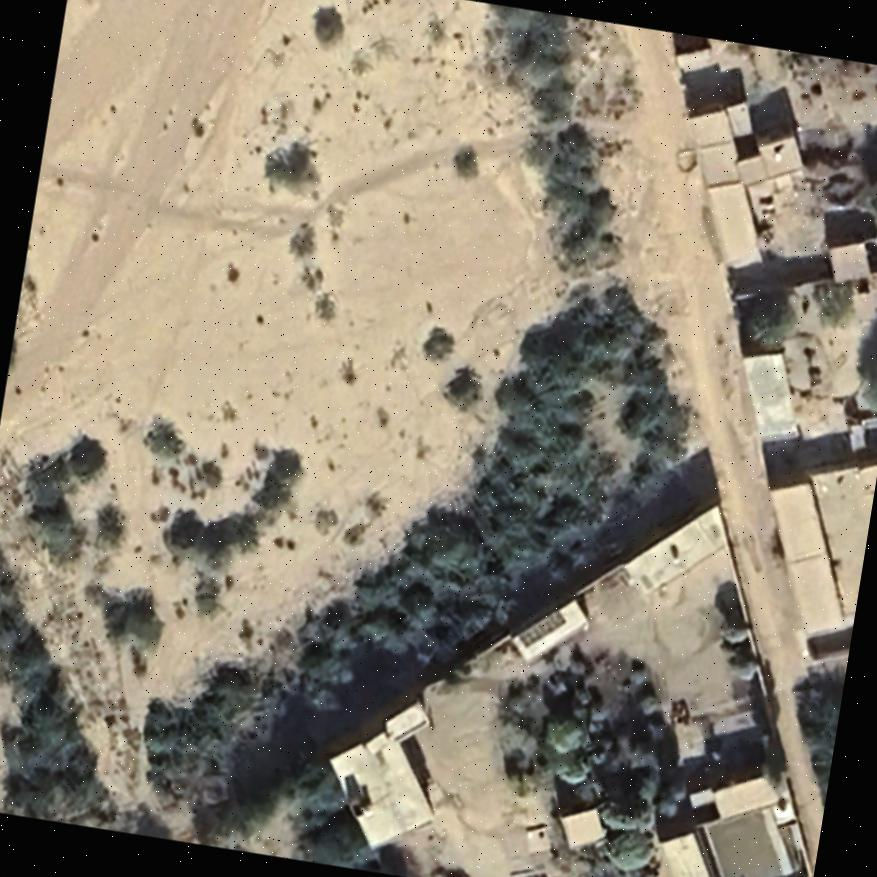Solarpanel: (509, 605, 569, 652)
